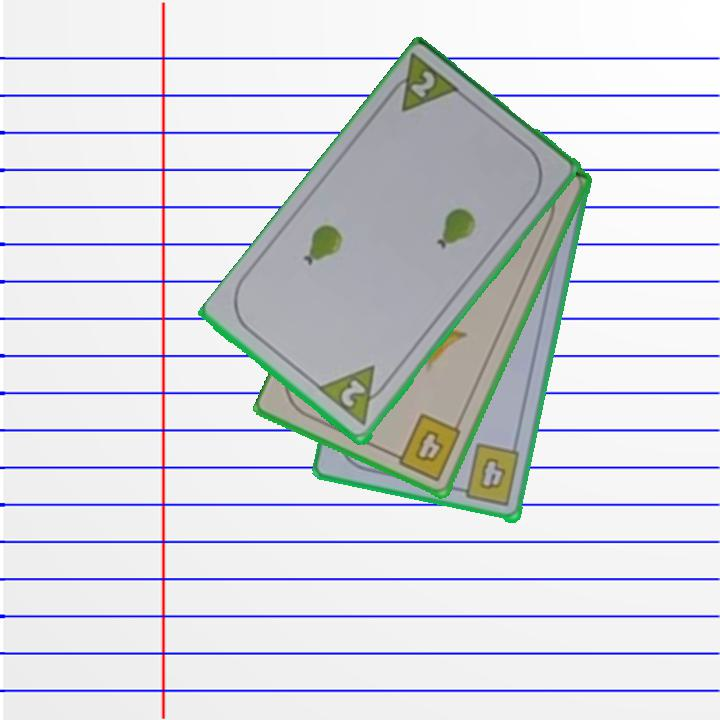2p: (381, 52, 466, 116), (315, 362, 394, 430)
4b: (387, 410, 465, 484), (452, 441, 523, 510)
